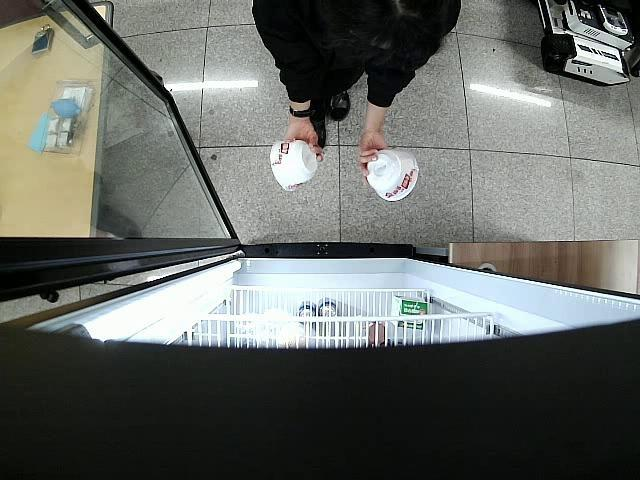09_yukGaeJang: (364, 146, 418, 202), (268, 140, 317, 190)
